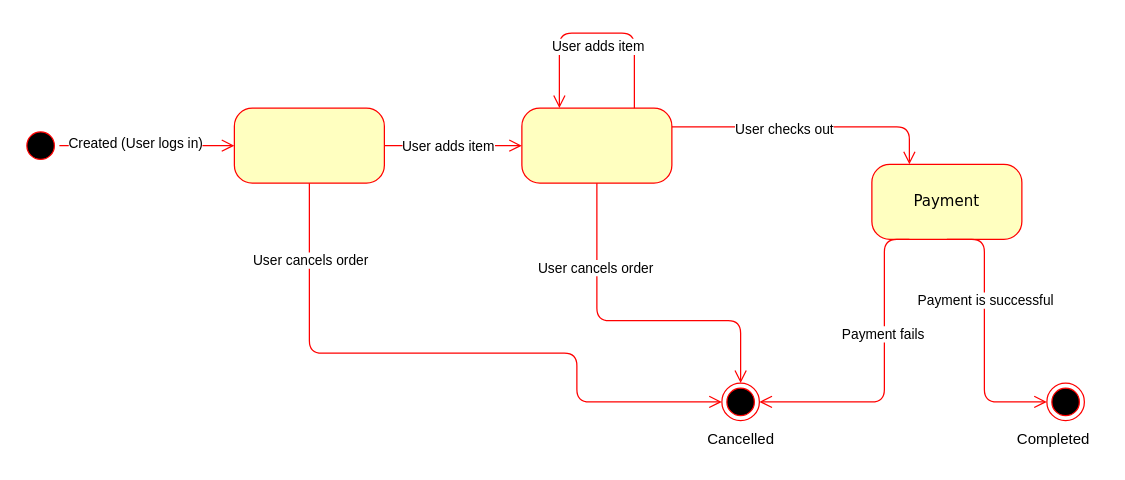
Some shapes in this 1125 by 480 pixel diagram are drawn without their labels. The centre of each missing label's shape, as x and y in pixels:
Empty: the point at 308,145
In progress: the point at 596,145
